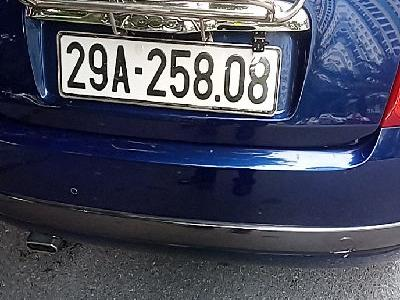lisence: (54, 28, 284, 120)
